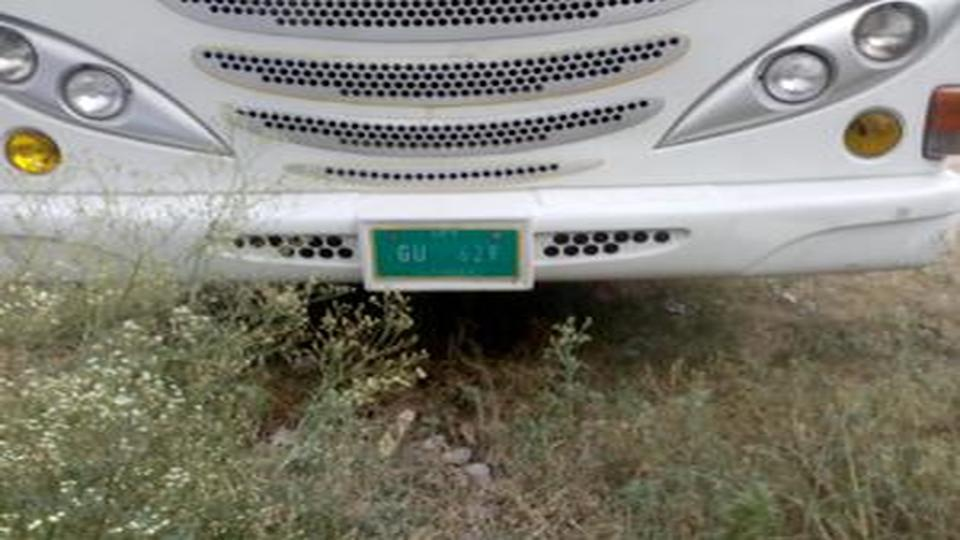NumberPlate: (369, 222, 524, 288)
